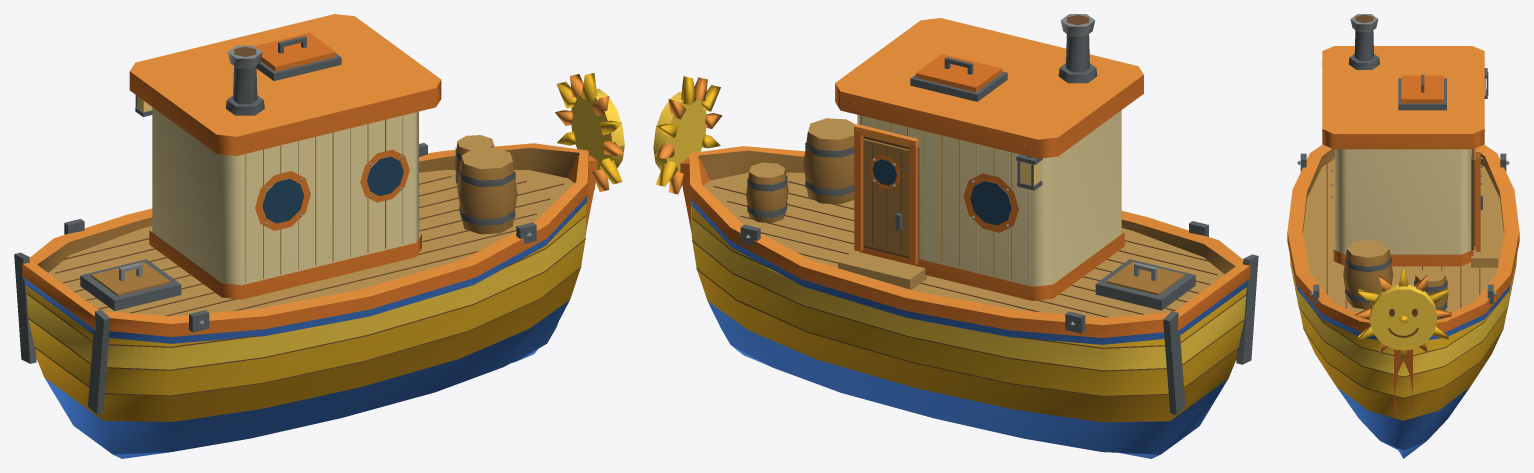
The picture shows the model from 3 angles, left to right: view 1: azimuth 30°, elevation 25°; view 2: azimuth 150°, elevation 25°; view 3: azimuth 270°, elevation 25°; orthographic projection. The views are drawn at different scales.
Visible parts, largest first — view 1: cabin-cream-walls, roof-golden-top, main-deck, hull-team-lower-band, hull-yellow-plank-1, hull-yellow-plank-0, hull-yellow-plank-2, orange-gunwale-cap, orange-gunwale-face, roof-orange-fascia, cabin-orange-skirting, team-gunwale-inlay (+18 smaller); view 2: cabin-cream-walls, roof-golden-top, hull-team-lower-band, main-deck, hull-yellow-plank-1, hull-yellow-plank-0, hull-yellow-plank-2, orange-gunwale-cap, orange-gunwale-face, roof-orange-fascia, team-gunwale-inlay, door-wood-panel (+22 smaller); view 3: cabin-cream-walls, roof-golden-top, main-deck, orange-gunwale-cap, hull-yellow-plank-1, hull-yellow-plank-2, hull-yellow-plank-0, sun-carved-face, roof-orange-fascia, hull-team-lower-band, orange-gunwale-face, bow-barrel-large-staves (+21 smaller).
Part boxes in pixels (x1,y1,x2,y2): cabin-cream-walls: (152,107,418,285); roof-golden-top: (130,14,441,136); main-deck: (48,170,574,316); hull-team-lower-band: (45,300,569,454); hull-yellow-plank-1: (28,240,585,395); hull-yellow-plank-0: (35,268,580,421); hull-yellow-plank-2: (26,204,586,369); orange-gunwale-cap: (22,143,588,323); orange-gunwale-face: (22,154,588,336); roof-orange-fascia: (129,71,441,155); cabin-orange-skirting: (149,230,421,299); team-gunwale-inlay: (22,196,587,343); cabin-cream-walls: (857,110,1121,286); roof-golden-top: (835,18,1143,139); hull-team-lower-band: (708,301,1228,454); main-deck: (703,172,1224,317); hull-yellow-plank-1: (692,242,1244,395); hull-yellow-plank-0: (697,270,1237,422); hull-yellow-plank-2: (691,202,1245,370); orange-gunwale-cap: (689,146,1250,325); orange-gunwale-face: (689,160,1250,337); roof-orange-fascia: (835,75,1143,158); team-gunwale-inlay: (690,198,1250,344); door-wood-panel: (863,138,908,256); cabin-cream-walls: (1335,149,1471,254); roof-golden-top: (1322,46,1484,133); main-deck: (1303,159,1503,312); orange-gunwale-cap: (1287,144,1519,322); hull-yellow-plank-1: (1299,308,1507,397); hull-yellow-plank-2: (1289,254,1517,376); hull-yellow-plank-0: (1305,332,1501,420); sun-carved-face: (1369,285,1437,349); roof-orange-fascia: (1322,129,1484,149); hull-team-lower-band: (1337,387,1469,450); orange-gunwale-face: (1287,232,1519,332); bow-barrel-large-staves: (1343,249,1393,309).
Bounding box in the file's own units: 1.2 × 0.825 × 0.5465.
